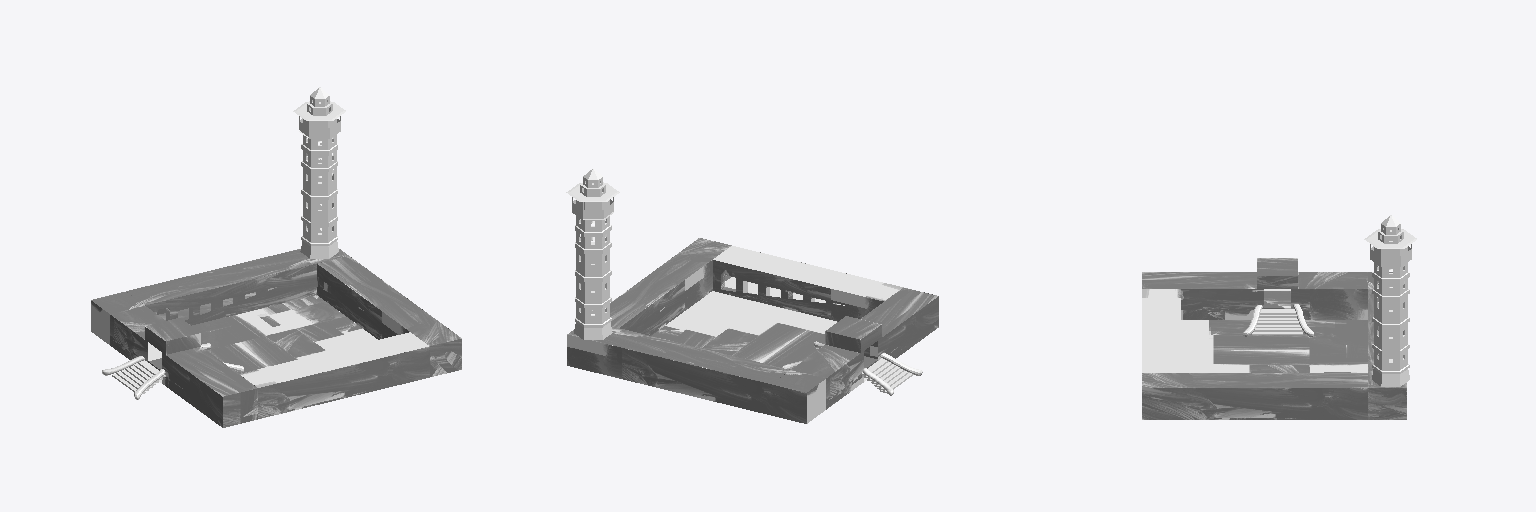
3 renders of one model, left to right at view 1: azimuth 30°, elevation 25°; view 2: azimuth 150°, elevation 25°; view 3: azimuth 270°, elevation 25°, orthographic.
Visible parts, largest first — view 1: Cube.015_Material, Cube.013_Material, aOmariNEwTest_Material, Cube.014_Material, Cylinder.001_Material.003, StairsOutside_Material.005; view 2: Cube.015_Material, Cube.013_Material, aOmariNEwTest_Material, Cylinder.001_Material.003, Cube.014_Material, StairsOutside_Material.005; view 3: Cube.015_Material, Cube.014_Material, aOmariNEwTest_Material, Cylinder.001_Material.003, Cube.013_Material, sTAIRS_Material.005.
Part boxes in pixels (x1,y1,x2,y2): Cube.015_Material: (192, 295, 429, 418); Cube.013_Material: (91, 249, 348, 344); aOmariNEwTest_Material: (110, 306, 257, 427); Cube.014_Material: (317, 256, 461, 376); Cylinder.001_Material.003: (293, 87, 345, 258); StairsOutside_Material.005: (112, 360, 165, 393); Cube.015_Material: (652, 246, 902, 379); Cube.013_Material: (567, 326, 825, 423); aOmariNEwTest_Material: (791, 287, 938, 409); Cylinder.001_Material.003: (566, 169, 619, 339); Cube.014_Material: (610, 238, 731, 346); StairsOutside_Material.005: (861, 358, 913, 393); Cube.015_Material: (1142, 289, 1367, 372); Cube.014_Material: (1142, 373, 1367, 419); aOmariNEwTest_Material: (1142, 258, 1367, 319); Cylinder.001_Material.003: (1364, 215, 1416, 386); Cube.013_Material: (1368, 272, 1406, 419); sTAIRS_Material.005: (1252, 309, 1302, 334).
Bounding box in the file's own units: 37.32 × 25.25 × 31.94.
4 materials, 3 textured.